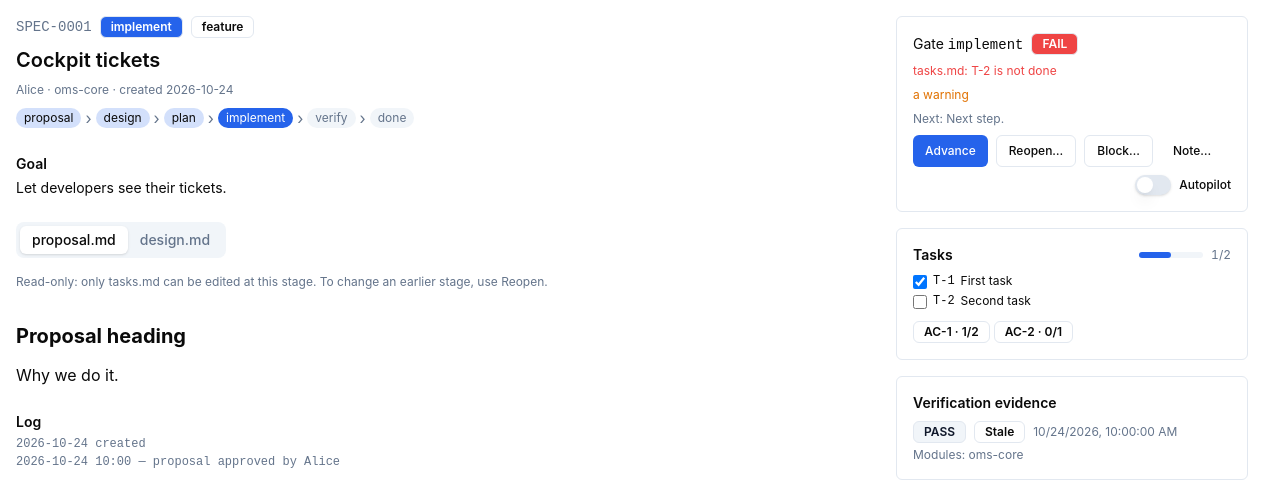
Test: TicketDetail › renders goal, documents, log and evidence
Expected: the text "Let developers see their tickets." is shown, 16,179 -> 227,196
Expected: the tab "proposal.md" is shown, 20,226 -> 128,254
Step 1. Press the mouse on the tab "design.md" → (175, 240), box 128,226 -> 222,254
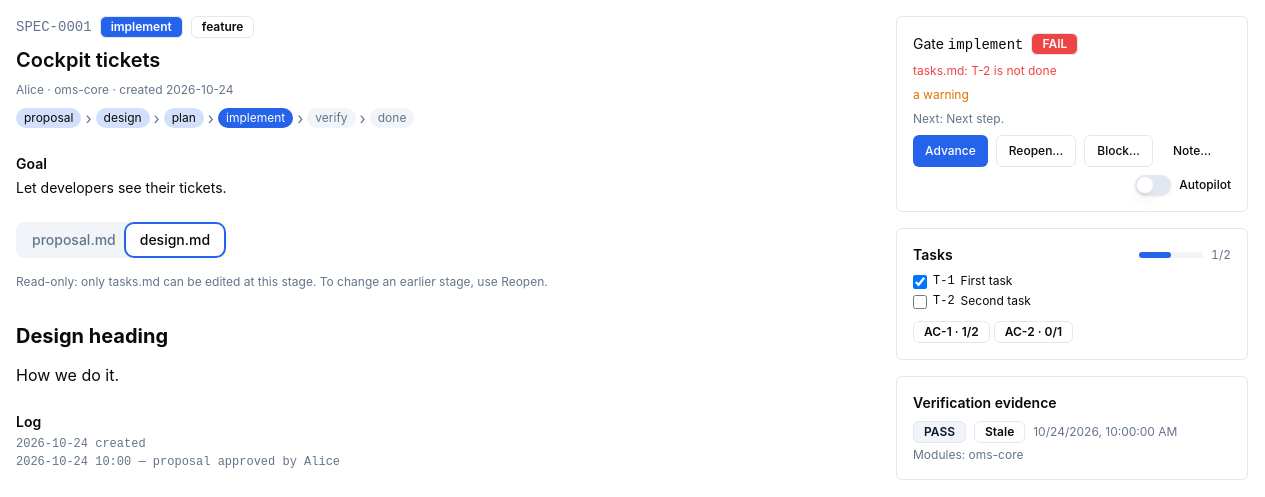
Expected: the list item "2026-10-24 created" is shown, 16,437 -> 146,451
Expected: the heading "Design heading" is shown, 16,324 -> 168,348
